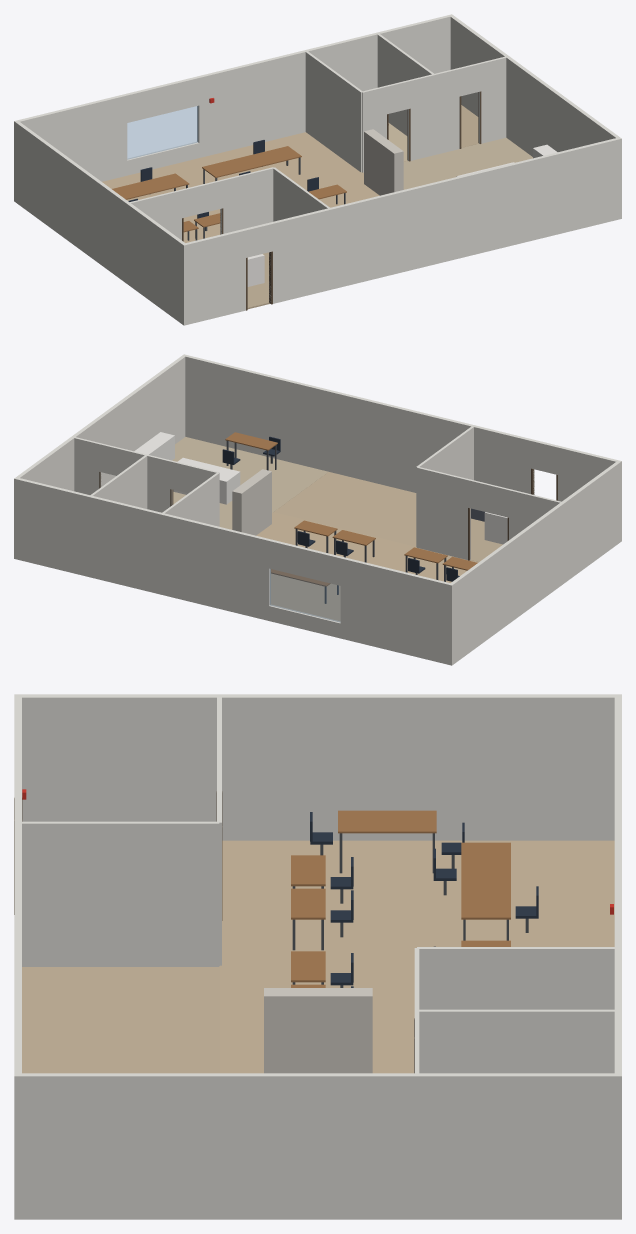
The model's file is agency-studio.glb.
3 renders of one model, top to bottom at view 1: azimuth 30°, elevation 25°; view 2: azimuth 150°, elevation 25°; view 3: azimuth 270°, elevation 25°, orthographic. The views are drawn at different scales.
Parts seen in each view (by area): view 1: wall_south (×2), wall_north (×2), wall_west, wall_east, wall_wall_pods_kitchen (×3), floor_studio, wall_wall_studio_pod1, wall_wall_reception_studio (×2), floor_kitchen, window_n_glass, window_n_header, material_library_body (+12 smaller); view 2: wall_north (×2), wall_south (×2), wall_west, wall_east, floor, wall_wall_reception_studio (×2), floor_studio, floor_kitchen, wall_wall_pods_kitchen (×2), window_n_glass, window_n_header, material_library_body (+13 smaller); view 3: wall_east, wall_west, floor_studio, wall_wall_reception_east, floor, wall_wall_pod1_pod2, wall_wall_studio_pod1, material_library_body, studio_table_1_top, wall_north (×2), wall_south, print_table_top (+3 smaller).
Boxes of the visible parts, bbox=[...] form: wall_south (×2): bbox=[182, 137, 621, 325]; wall_north (×2): bbox=[14, 14, 453, 202]; wall_west: bbox=[16, 122, 184, 323]; wall_east: bbox=[450, 16, 619, 156]; wall_wall_pods_kitchen (×3): bbox=[362, 56, 506, 172]; floor_studio: bbox=[102, 132, 379, 242]; wall_wall_studio_pod1: bbox=[305, 51, 362, 172]; wall_wall_reception_studio (×2): bbox=[130, 167, 274, 240]; floor_kitchen: bbox=[363, 138, 532, 189]; window_n_glass: bbox=[127, 106, 198, 159]; window_n_header: bbox=[126, 76, 199, 122]; material_library_body: bbox=[364, 129, 403, 195]; wall_north (×2): bbox=[14, 477, 453, 665]; wall_south (×2): bbox=[182, 354, 621, 542]; wall_west: bbox=[451, 462, 619, 663]; wall_east: bbox=[16, 356, 185, 491]; floor: bbox=[176, 443, 478, 562]; wall_wall_reception_studio (×2): bbox=[416, 466, 561, 559]; floor_studio: bbox=[256, 512, 478, 620]; floor_kitchen: bbox=[172, 437, 328, 529]; wall_wall_pods_kitchen (×2): bbox=[74, 437, 172, 512]; window_n_glass: bbox=[269, 569, 340, 622]; window_n_header: bbox=[269, 539, 342, 585]; material_library_body: bbox=[232, 469, 271, 535]; wall_east: bbox=[22, 1073, 614, 1219]; wall_west: bbox=[22, 694, 614, 840]; floor_studio: bbox=[220, 840, 613, 1073]; wall_wall_reception_east: bbox=[22, 821, 219, 966]; floor: bbox=[22, 840, 614, 1073]; wall_wall_pod1_pod2: bbox=[417, 1009, 614, 1073]; wall_wall_studio_pod1: bbox=[417, 947, 614, 1009]; material_library_body: bbox=[264, 988, 372, 1073]; studio_table_1_top: bbox=[461, 842, 510, 919]; wall_north (×2): bbox=[614, 694, 621, 1219]; wall_south: bbox=[14, 770, 21, 1219]; print_table_top: bbox=[338, 810, 436, 833].
Bounding box in the file's own units: 18.3 × 3.25 × 12.31.
